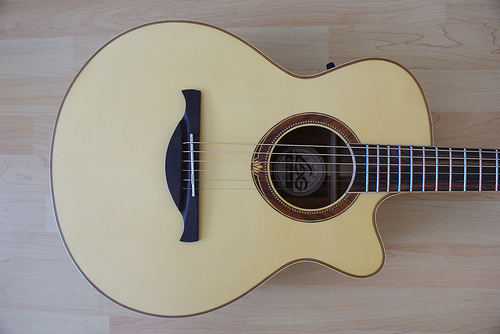guitar: (50, 20, 500, 319)
